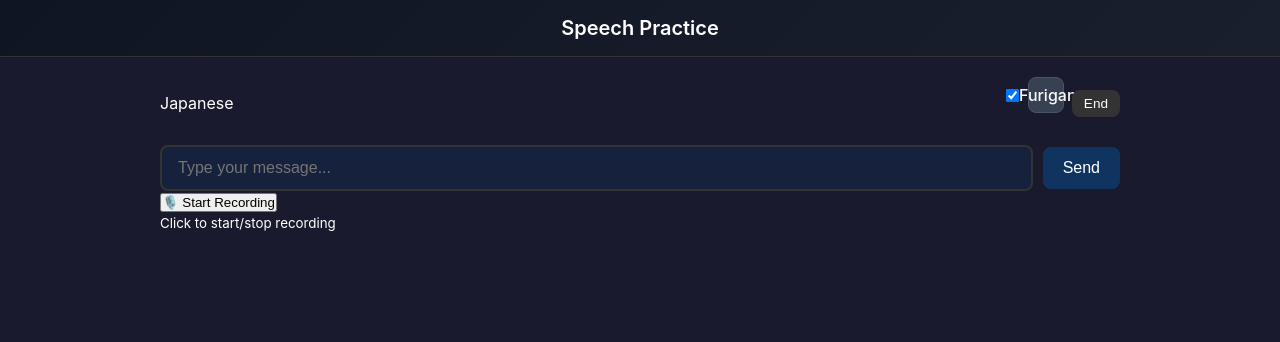
Test: ChatSession › sending messages › should send a message by pressing Enter
Type "さようなら" into the field with placeholder "Type your message..." at (596, 168), box top-left (160, 145), bottom-right (1033, 191)
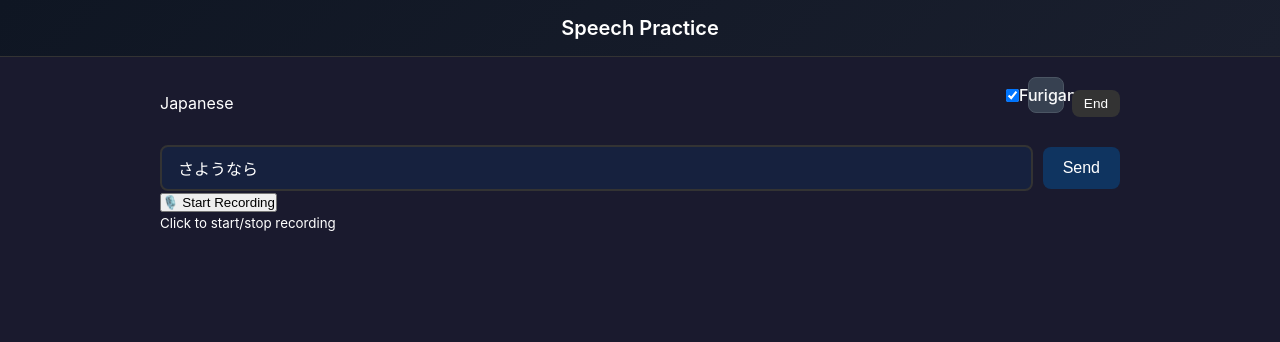
Press Enter in the field with placeholder "Type your message...", box top-left (160, 145), bottom-right (1033, 191)
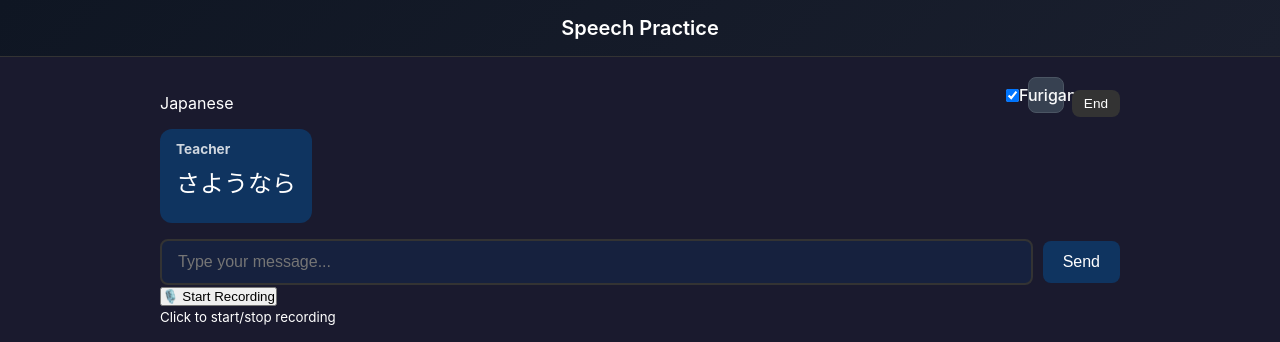
Check: the text "さようなら" is shown, box top-left (176, 169), bottom-right (296, 198)
Check: the field with placeholder "Type your message..." is empty, box top-left (160, 239), bottom-right (1033, 285)
